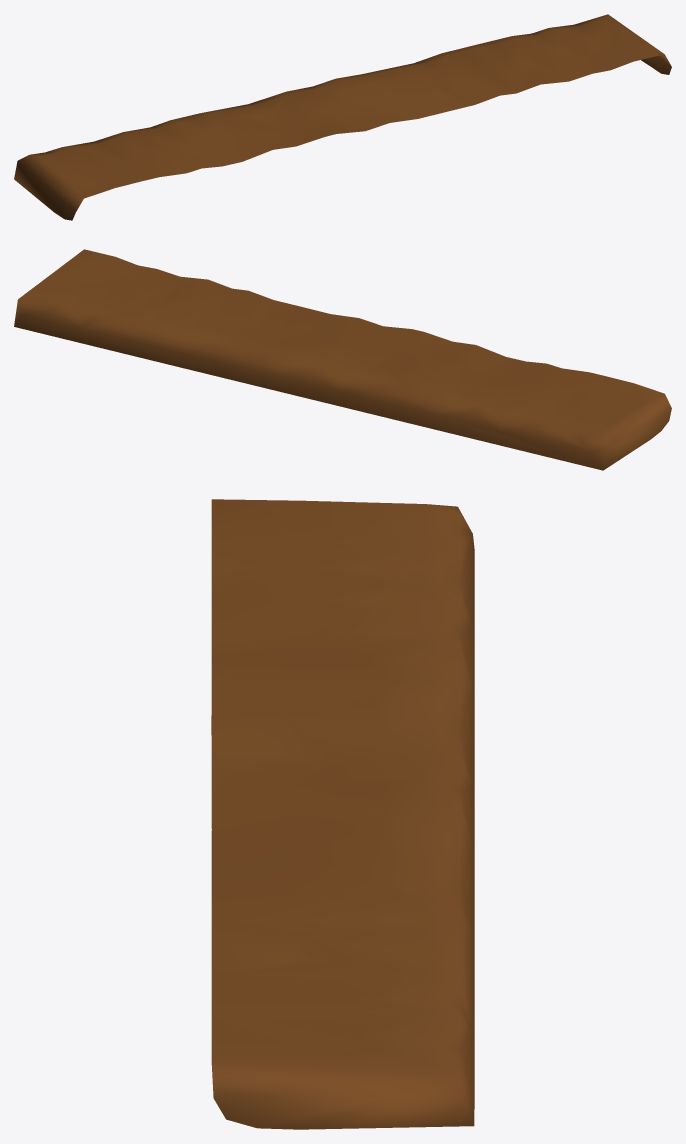
The model's file is Ground.fbx.
3 renders of one model, top to bottom at view 1: azimuth 30°, elevation 25°; view 2: azimuth 150°, elevation 25°; view 3: azimuth 270°, elevation 25°, orthographic. The views are drawn at different scales.
Visible parts, largest first — view 1: Ground; view 2: Ground; view 3: Ground.
Boxes of the visible parts, bbox=[...] form: Ground: bbox=[14, 14, 671, 220]; Ground: bbox=[14, 249, 671, 470]; Ground: bbox=[211, 499, 474, 1129].
Size of the model in its own units: 4797 by 238 by 918.
